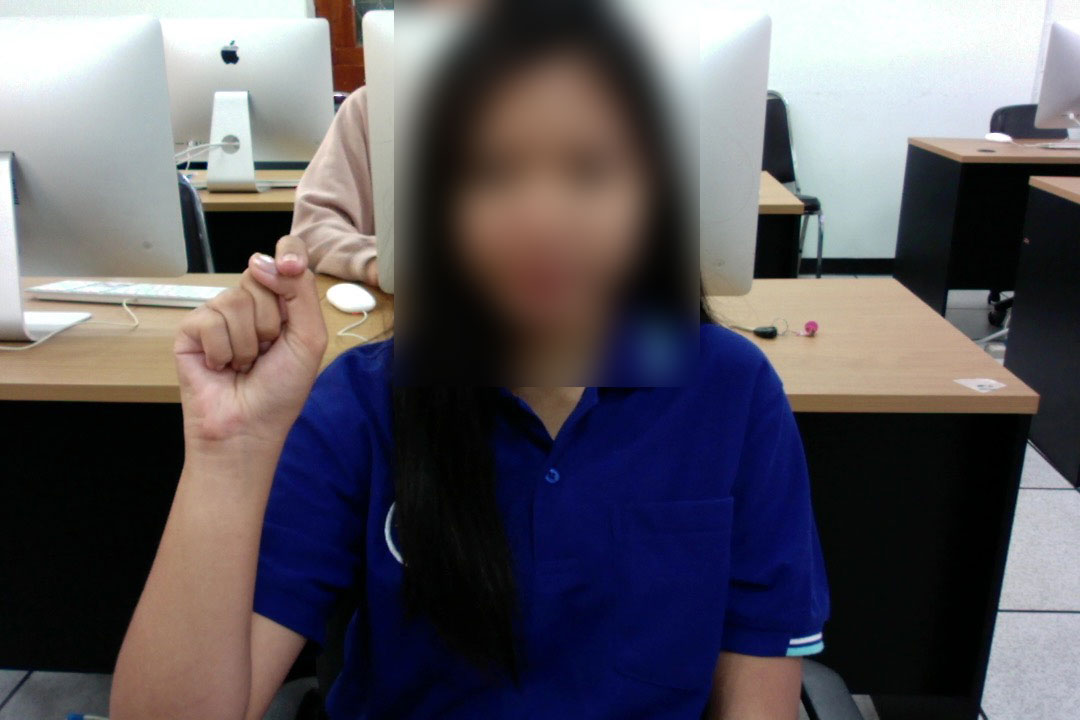tor: (166, 228, 329, 458)
